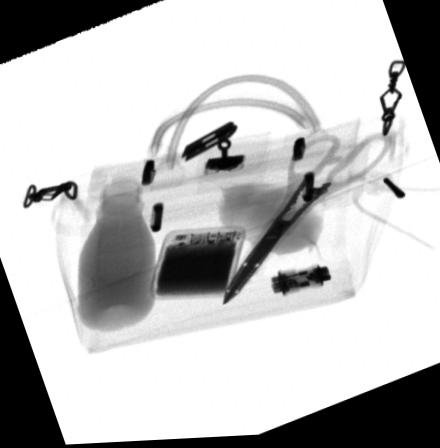Powerbank: (146, 230, 241, 301)
Scissors: (221, 133, 394, 311)
